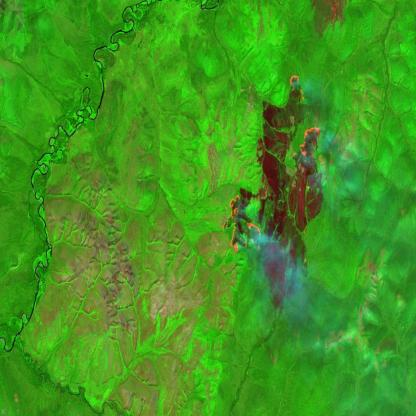fire: (222, 187, 262, 256), (297, 125, 322, 172), (281, 68, 310, 102)
